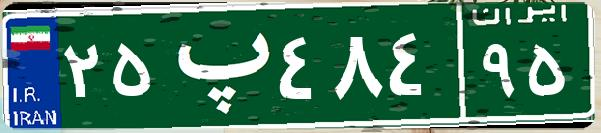2: (57, 26, 110, 107)
4: (385, 28, 445, 110), (273, 28, 330, 110)
5: (110, 28, 158, 105), (525, 38, 570, 115)
8: (330, 28, 385, 110)
9: (475, 38, 525, 113)
پ: (158, 15, 273, 115)
